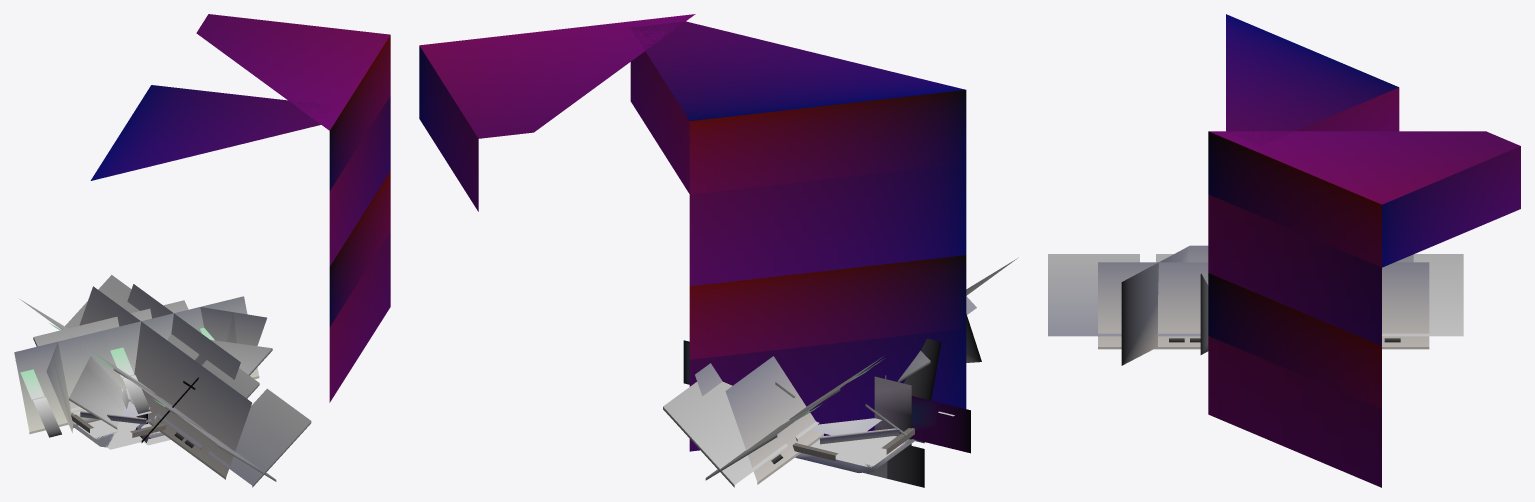
Rendered from arena_armageddon.glb.
3 views of the same model, side by side, from view 1: azimuth 30°, elevation 25°; view 2: azimuth 150°, elevation 25°; view 3: azimuth 270°, elevation 25° (orthographic). The views are drawn at different scales.
Visible parts, largest first — view 1: 0x4fd_Arena, 0x4fe_Arena, 0x53d_Arena_Upper_Level_Crowd_Balcony_Part_14_Polygon, 0x53c_Arena_Upper_Level_Crowd_Balcony_Part_7_Polygon, 0x539_Arena_Upper_Level_Crowd_Balcony_Part_13_Polygon, 0x53a_Arena_Upper_Level_Crowd_Balcony_Part_1_Polygon, 0x537_Arena_Right_Crowd_Back_Row_Polygon, 0x53e_Arena_Upper_Level_Crowd_Balcony_Part_3_Polygon, 0x53b_Arena_Upper_Level_Crowd_Balcony_Part_2_Polygon, 0x538_Arena_Upper_Level_Crowd_Balcony_Part_12_Polygon, 0x545_Arena_Crowd_Area_Behind_the_Stage_Left_Side_Part_1_Pol, 0x5ea_Arena_Armageddon_Barricades (+1 smaller); view 2: 0x4fe_Arena, 0x4fd_Arena, 0x53d_Arena_Upper_Level_Crowd_Balcony_Part_14_Polygon, 0x53c_Arena_Upper_Level_Crowd_Balcony_Part_7_Polygon, 0x5e7_Arena_Armageddon_Upper_Lights_hard_to_see, 0x543_Arena_Crowd_Area_Left_of_the_Stage_Part_1_Polygon, 0x5f1_Arena_Armageddon_Rightside_Column_Structure, 0x5ea_Arena_Armageddon_Barricades, 0x545_Arena_Crowd_Area_Behind_the_Stage_Left_Side_Part_1_Pol, 0x53e_Arena_Upper_Level_Crowd_Balcony_Part_3_Polygon, 0x55c_Arena_Normal_Match_Outside_Floor_Pads_Larger_Pieces_Po, 0x55d_Arena_Normal_Match_Ring_Mat_Polygon (+1 smaller); view 3: 0x4fd_Arena, 0x4fe_Arena, 0x546_Arena_Upper_Level_Crowd_Balcony_Part_15_Polygon, 0x545_Arena_Crowd_Area_Behind_the_Stage_Left_Side_Part_1_Pol, 0x547_Arena_Upper_Level_Crowd_Balcony_Part_5_Polygon, 0x541_Arena_Upper_Level_Crowd_Balcony_Part_9_Polygon.
Part boxes in pixels (box(x1,y1,x2,y2)): 0x4fd_Arena: box(196, 14, 390, 402); 0x4fe_Arena: box(90, 85, 332, 180); 0x53d_Arena_Upper_Level_Crowd_Balcony_Part_14_Polygon: box(79, 286, 251, 479); 0x53c_Arena_Upper_Level_Crowd_Balcony_Part_7_Polygon: box(65, 275, 311, 487); 0x539_Arena_Upper_Level_Crowd_Balcony_Part_13_Polygon: box(46, 296, 259, 432); 0x53a_Arena_Upper_Level_Crowd_Balcony_Part_1_Polygon: box(14, 307, 266, 434); 0x537_Arena_Right_Crowd_Back_Row_Polygon: box(69, 300, 188, 429); 0x53e_Arena_Upper_Level_Crowd_Balcony_Part_3_Polygon: box(127, 284, 240, 379); 0x53b_Arena_Upper_Level_Crowd_Balcony_Part_2_Polygon: box(15, 327, 214, 437); 0x538_Arena_Upper_Level_Crowd_Balcony_Part_12_Polygon: box(33, 319, 272, 411); 0x545_Arena_Crowd_Area_Behind_the_Stage_Left_Side_Part_1_Pol: box(20, 299, 276, 481); 0x5ea_Arena_Armageddon_Barricades: box(74, 420, 155, 449); 0x4fe_Arena: box(630, 21, 966, 451); 0x4fd_Arena: box(419, 14, 695, 211); 0x53d_Arena_Upper_Level_Crowd_Balcony_Part_14_Polygon: box(725, 356, 823, 484); 0x53c_Arena_Upper_Level_Crowd_Balcony_Part_7_Polygon: box(663, 296, 976, 487); 0x5e7_Arena_Armageddon_Upper_Lights_hard_to_see: box(683, 340, 970, 453); 0x543_Arena_Crowd_Area_Left_of_the_Stage_Part_1_Polygon: box(867, 338, 941, 487); 0x5f1_Arena_Armageddon_Rightside_Column_Structure: box(874, 376, 911, 447); 0x5ea_Arena_Armageddon_Barricades: box(810, 436, 907, 467); 0x545_Arena_Crowd_Area_Behind_the_Stage_Left_Side_Part_1_Pol: box(705, 257, 1018, 480); 0x53e_Arena_Upper_Level_Crowd_Balcony_Part_3_Polygon: box(695, 314, 981, 395); 0x55c_Arena_Normal_Match_Outside_Floor_Pads_Larger_Pieces_Po: box(810, 418, 881, 435); 0x55d_Arena_Normal_Match_Ring_Mat_Polygon: box(792, 428, 914, 460); 0x4fd_Arena: box(1208, 131, 1520, 487); 0x4fe_Arena: box(1226, 14, 1399, 145); 0x546_Arena_Upper_Level_Crowd_Balcony_Part_15_Polygon: box(1098, 262, 1429, 349); 0x545_Arena_Crowd_Area_Behind_the_Stage_Left_Side_Part_1_Pol: box(1048, 254, 1463, 336); 0x547_Arena_Upper_Level_Crowd_Balcony_Part_5_Polygon: box(1121, 245, 1413, 365); 0x541_Arena_Upper_Level_Crowd_Balcony_Part_9_Polygon: box(1200, 273, 1208, 354).
Bounding box in the file's own units: 25.98 × 19.01 × 25.17.
